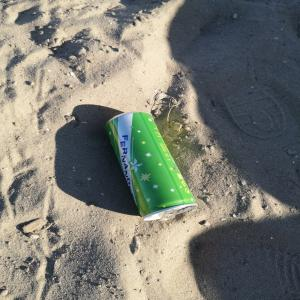Can: (104, 111, 200, 223)
